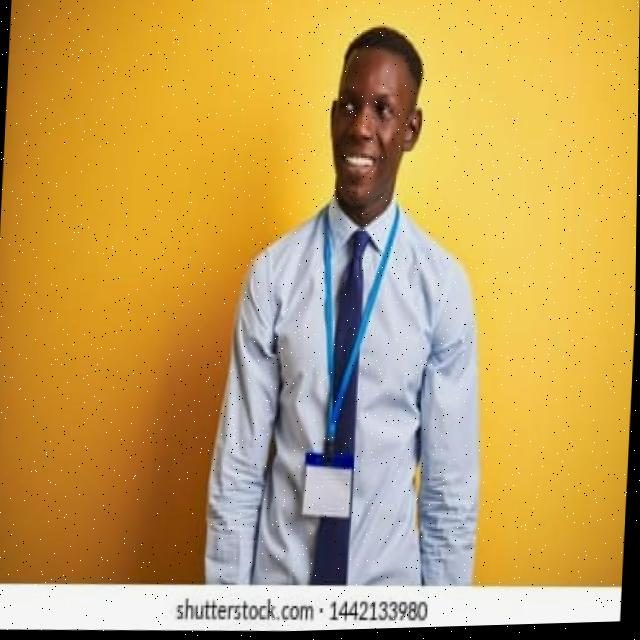id_card: (295, 207, 394, 526)
